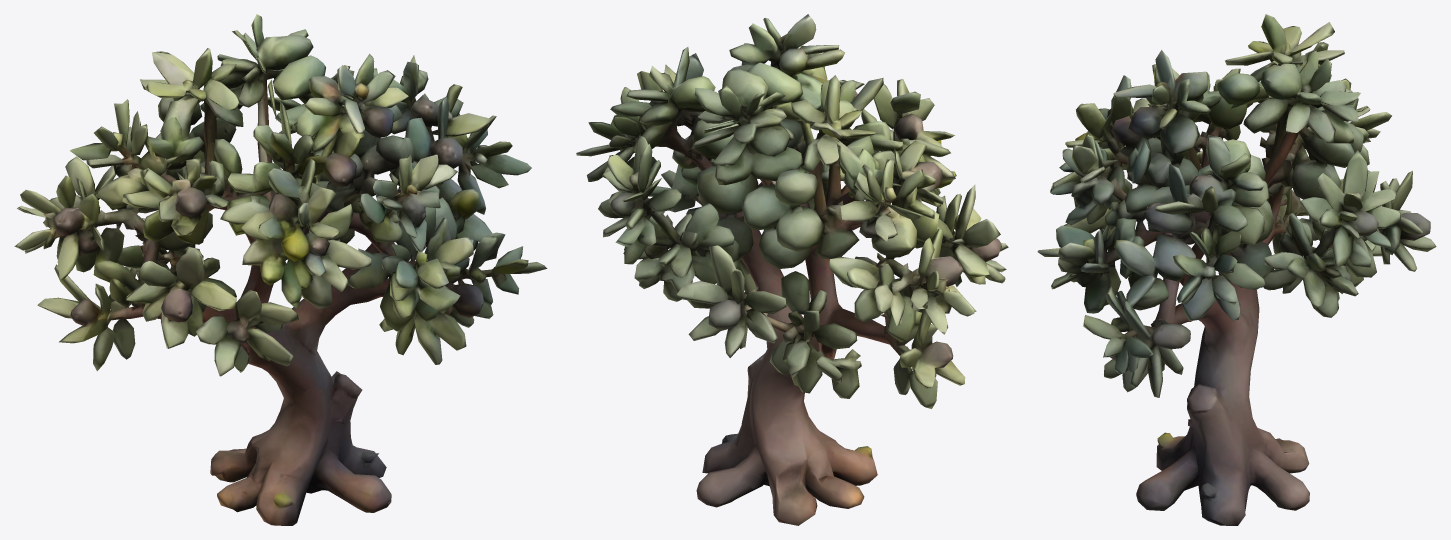
Rendered from olive.glb.
3 renders of one model, left to right at view 1: azimuth 30°, elevation 25°; view 2: azimuth 150°, elevation 25°; view 3: azimuth 270°, elevation 25°, orthographic.
Parts seen in each view (by area): view 1: tripo_node_37270c80-057c-462e-b918-ba16716d8640; view 2: tripo_node_37270c80-057c-462e-b918-ba16716d8640; view 3: tripo_node_37270c80-057c-462e-b918-ba16716d8640.
Part boxes in pixels (bbox=[...]): tripo_node_37270c80-057c-462e-b918-ba16716d8640: bbox=[14, 14, 547, 525]; tripo_node_37270c80-057c-462e-b918-ba16716d8640: bbox=[576, 14, 1008, 525]; tripo_node_37270c80-057c-462e-b918-ba16716d8640: bbox=[1037, 14, 1436, 525].
Size of the model in its own units: 1 by 0.9606 by 0.7817.
1 material, 1 textured.
